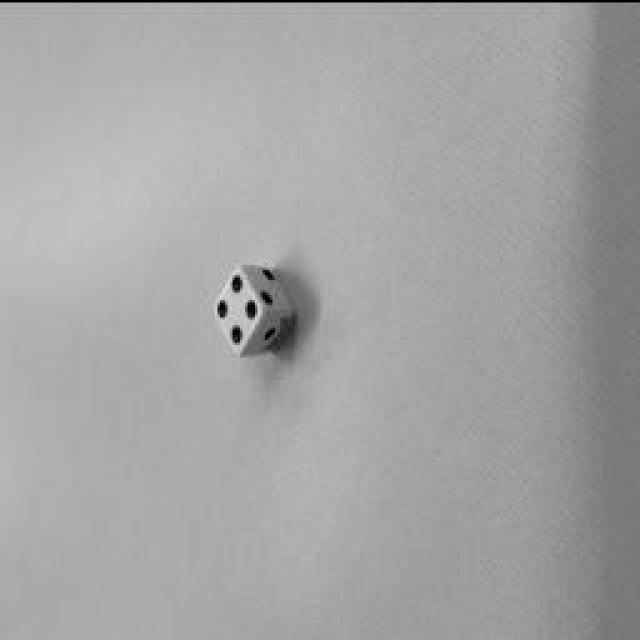dice_4: (214, 266, 264, 354)
